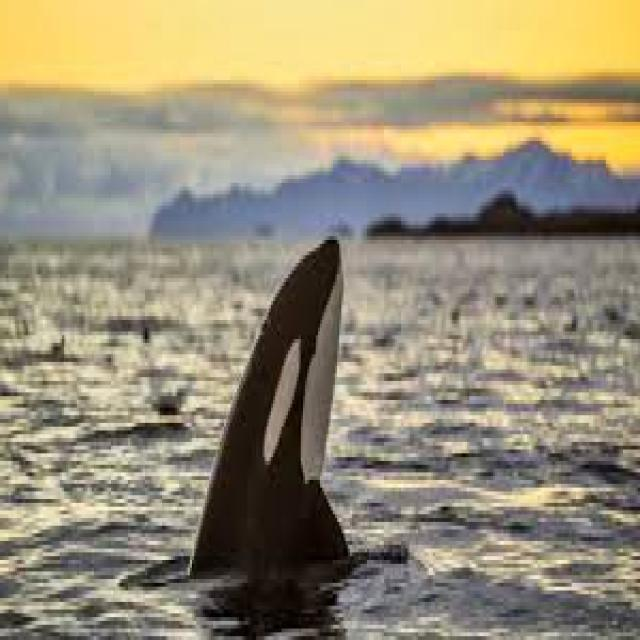whale: (192, 236, 348, 579)
